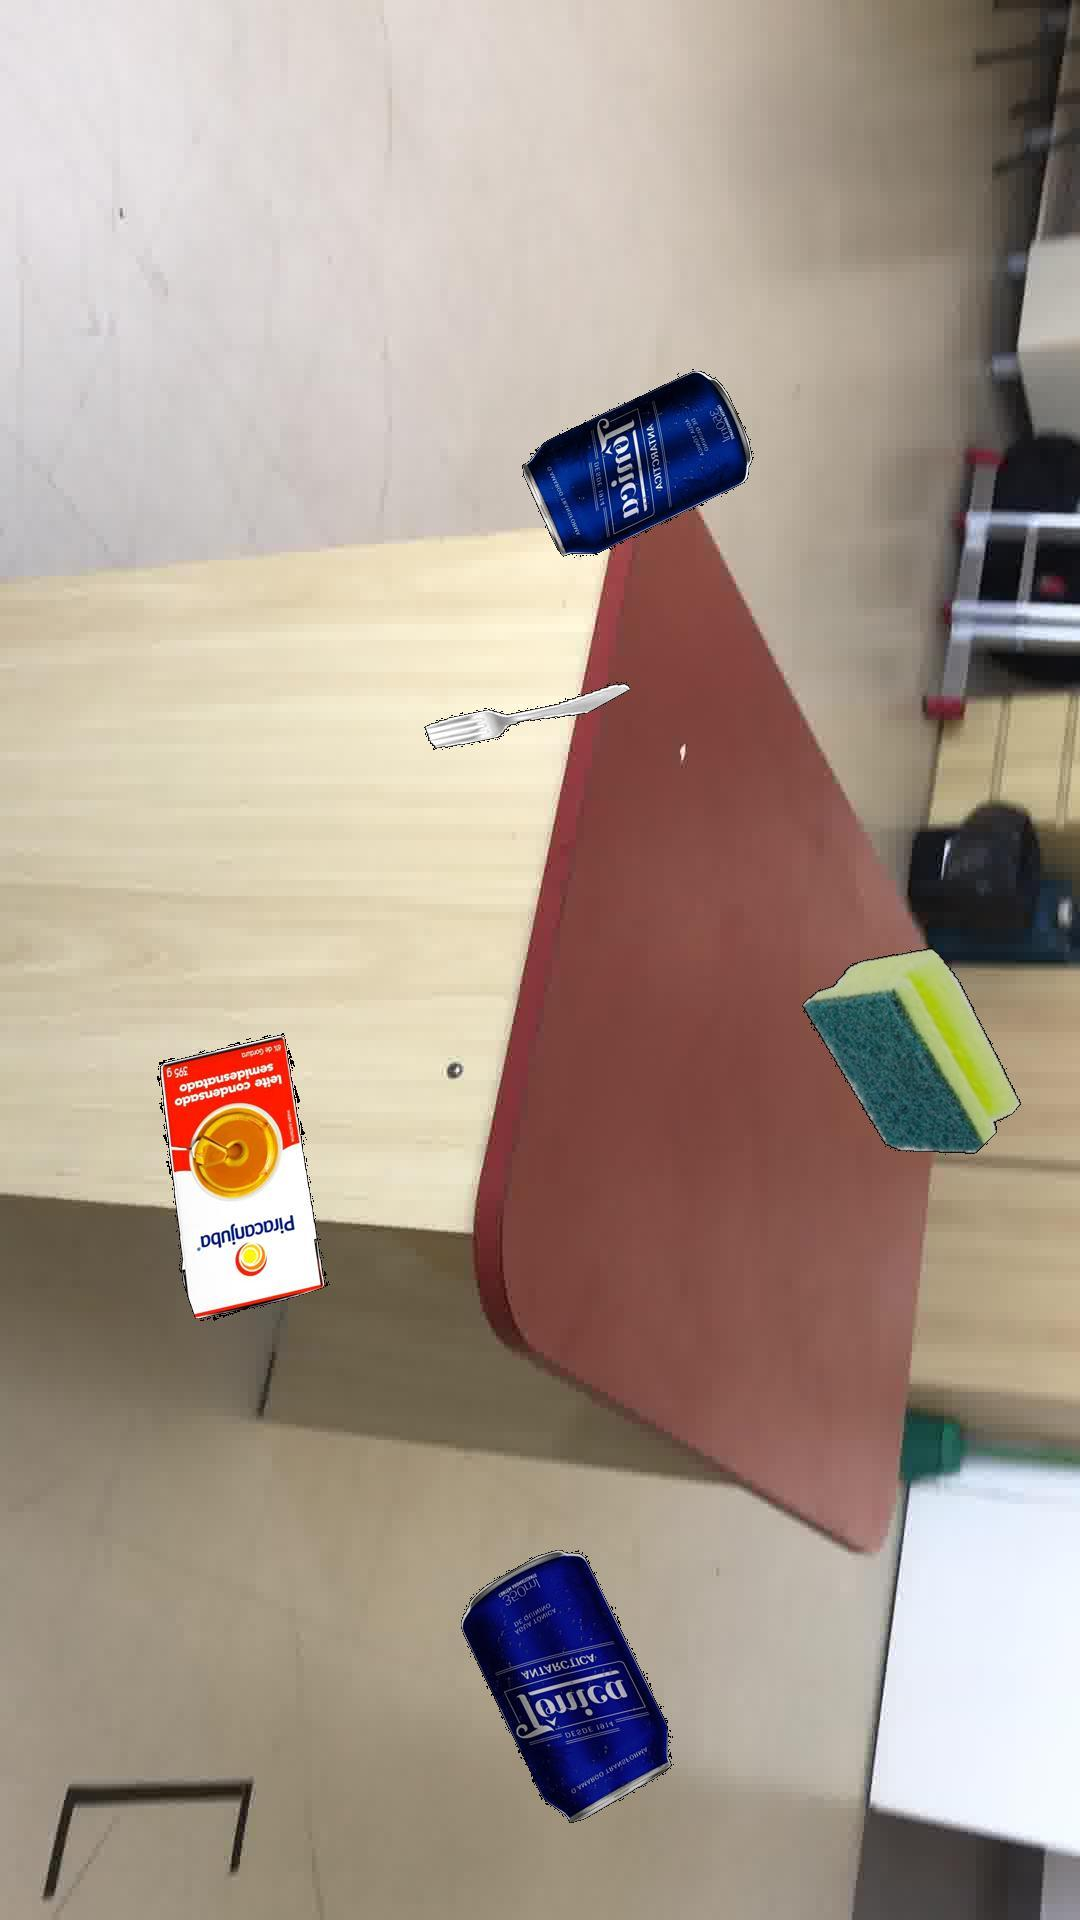fork: (422, 682, 629, 748)
sponge: (800, 947, 1019, 1153)
tonic: (459, 1548, 670, 1821), (521, 369, 753, 555)
